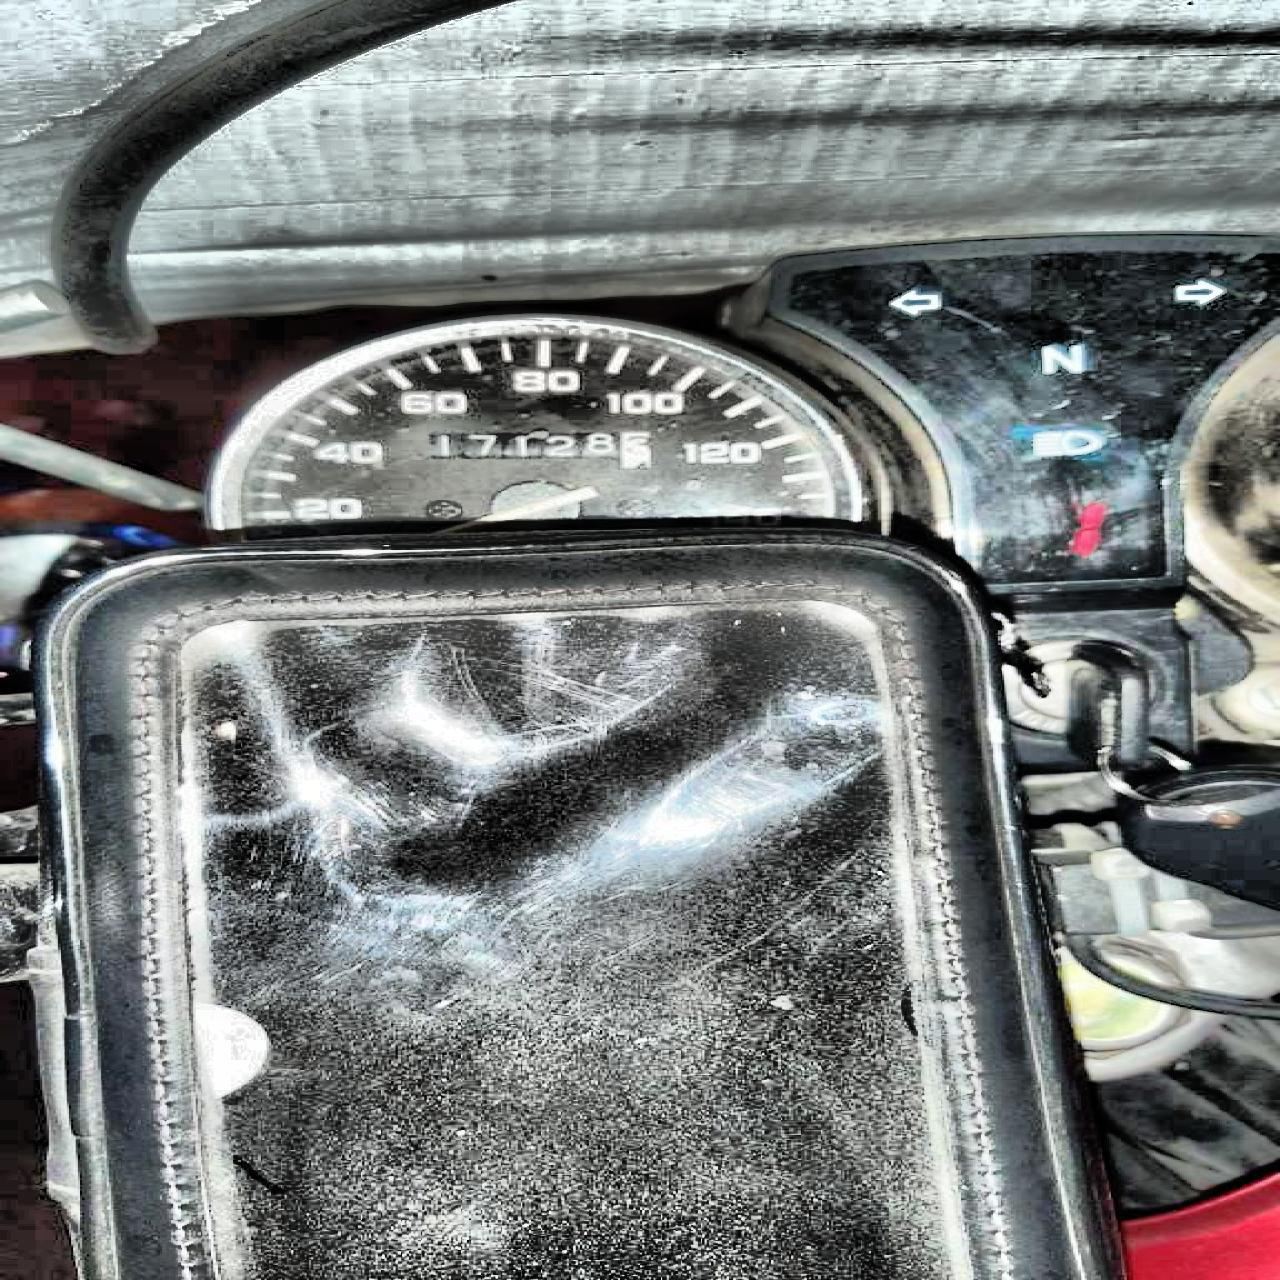1: (435, 434, 449, 455), (513, 434, 524, 456)
2: (543, 435, 573, 456)
3: (622, 434, 651, 452)
7: (464, 433, 496, 455)
8: (583, 431, 611, 454)
odometer: (424, 429, 655, 471)
